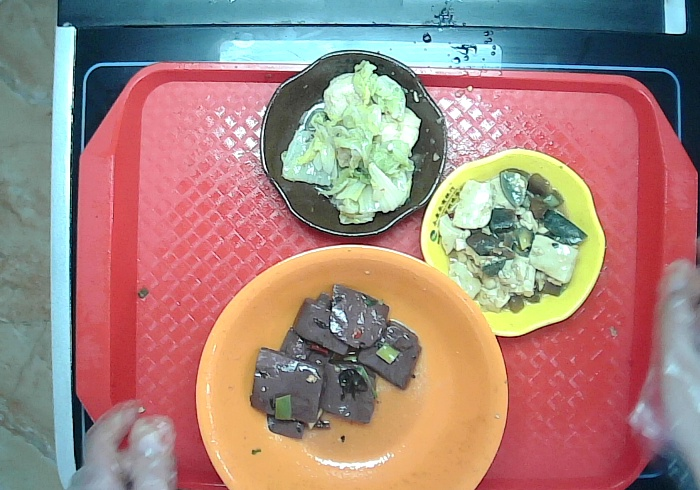YKMZ-Huang_Se_Ao_Bian_Wan: (417, 145, 608, 339)
YKMZ-Ju_Se_Tang_Wan: (194, 243, 510, 490)
YKMZ-Ka_Fei_Ao_Bian_Wan: (257, 48, 450, 239)
